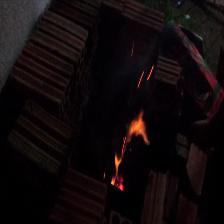fire: (112, 100, 148, 195)
